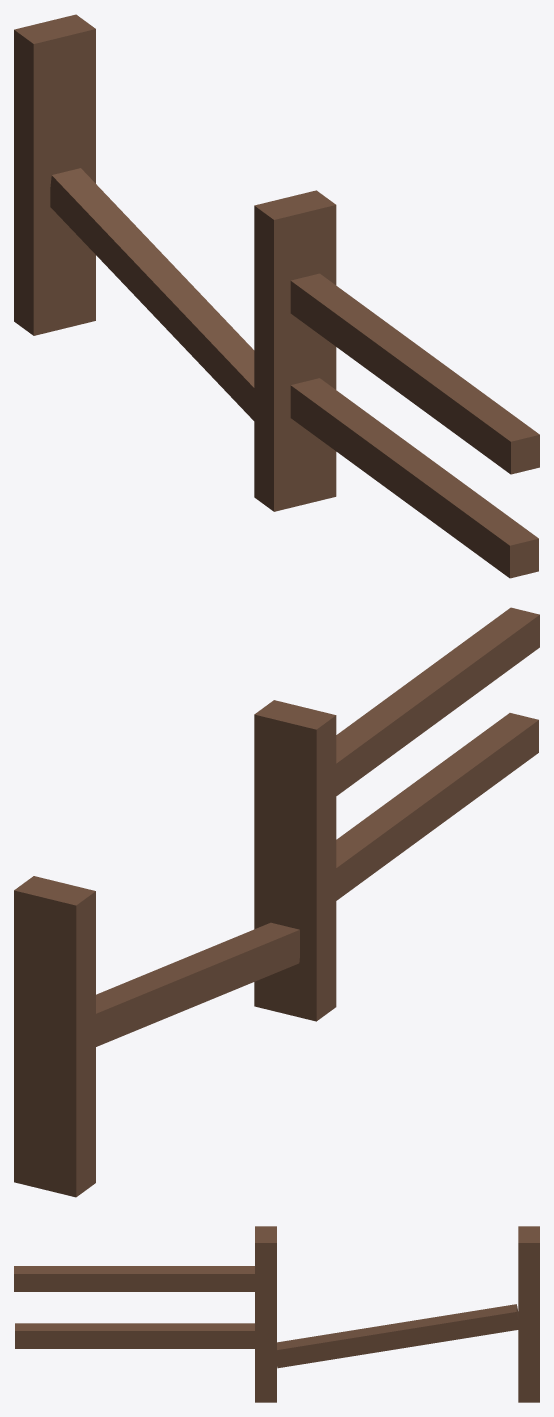
The model's file is Cerca3.fbx.
The picture shows the model from 3 angles, top to bottom: view 1: azimuth 30°, elevation 25°; view 2: azimuth 150°, elevation 25°; view 3: azimuth 270°, elevation 25°; orthographic projection. The views are drawn at different scales.
Visible parts, largest first — view 1: Cube.003, Cube, Cube.004, Cube.005, Cube.002; view 2: Cube.003, Cube, Cube.004, Cube.005, Cube.002; view 3: Cube.002, Cube.004, Cube.005, Cube, Cube.003.
Boxes of the visible parts, <box> form: Cube.003: <box>14,14,95,335</box>; Cube: <box>254,190,336,511</box>; Cube.004: <box>290,273,539,474</box>; Cube.005: <box>290,378,538,578</box>; Cube.002: <box>50,168,254,420</box>; Cube.003: <box>14,876,95,1197</box>; Cube: <box>254,700,336,1021</box>; Cube.004: <box>336,607,539,795</box>; Cube.005: <box>336,713,538,900</box>; Cube.002: <box>96,922,299,1046</box>; Cube.002: <box>277,1304,518,1368</box>; Cube.004: <box>14,1266,254,1291</box>; Cube.005: <box>15,1323,254,1348</box>; Cube: <box>255,1226,276,1402</box>; Cube.003: <box>518,1226,539,1402</box>.
Size of the model in its own units: 156 by 701 by 2091.
